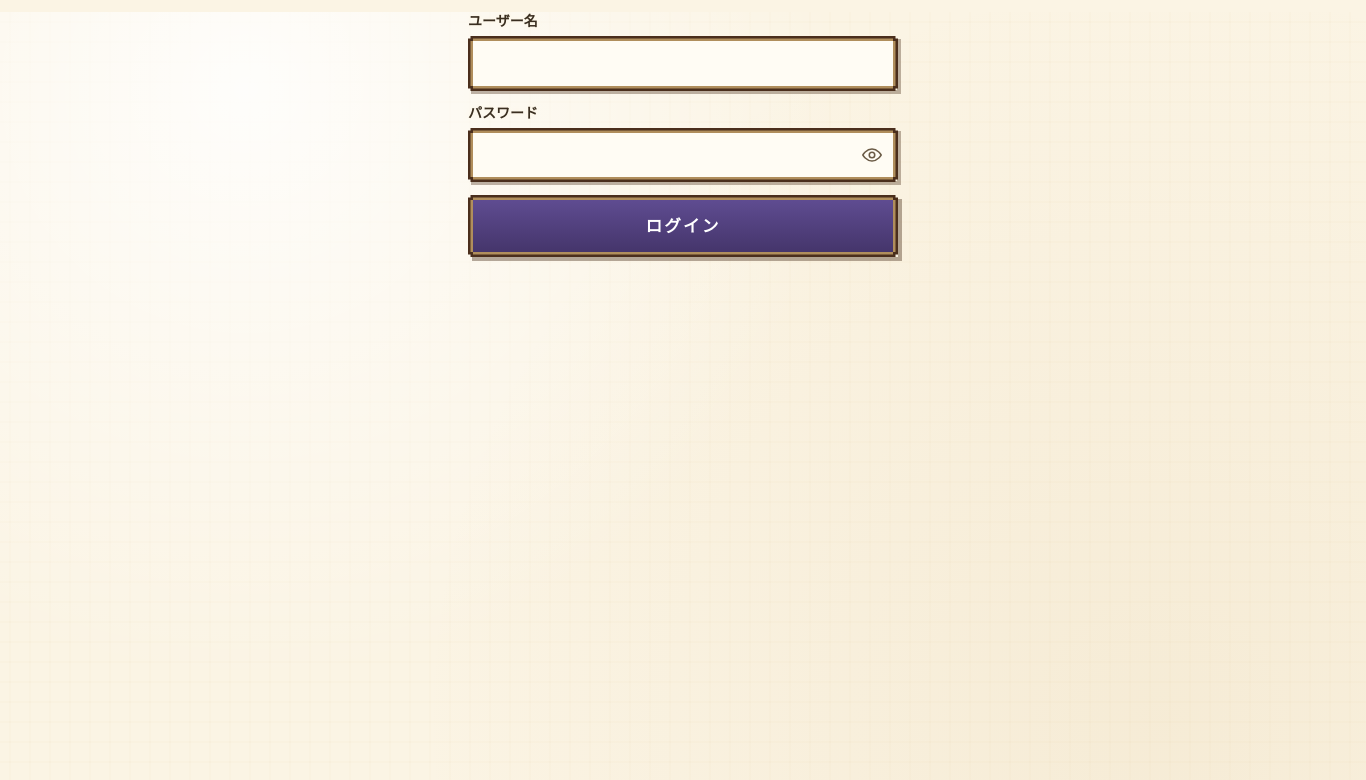
Scenario: LoginForm › 全角のパスワードは送信しない
Type "michishiru" into the field with id "login-username" at (683, 64), box [468,36,898,91]
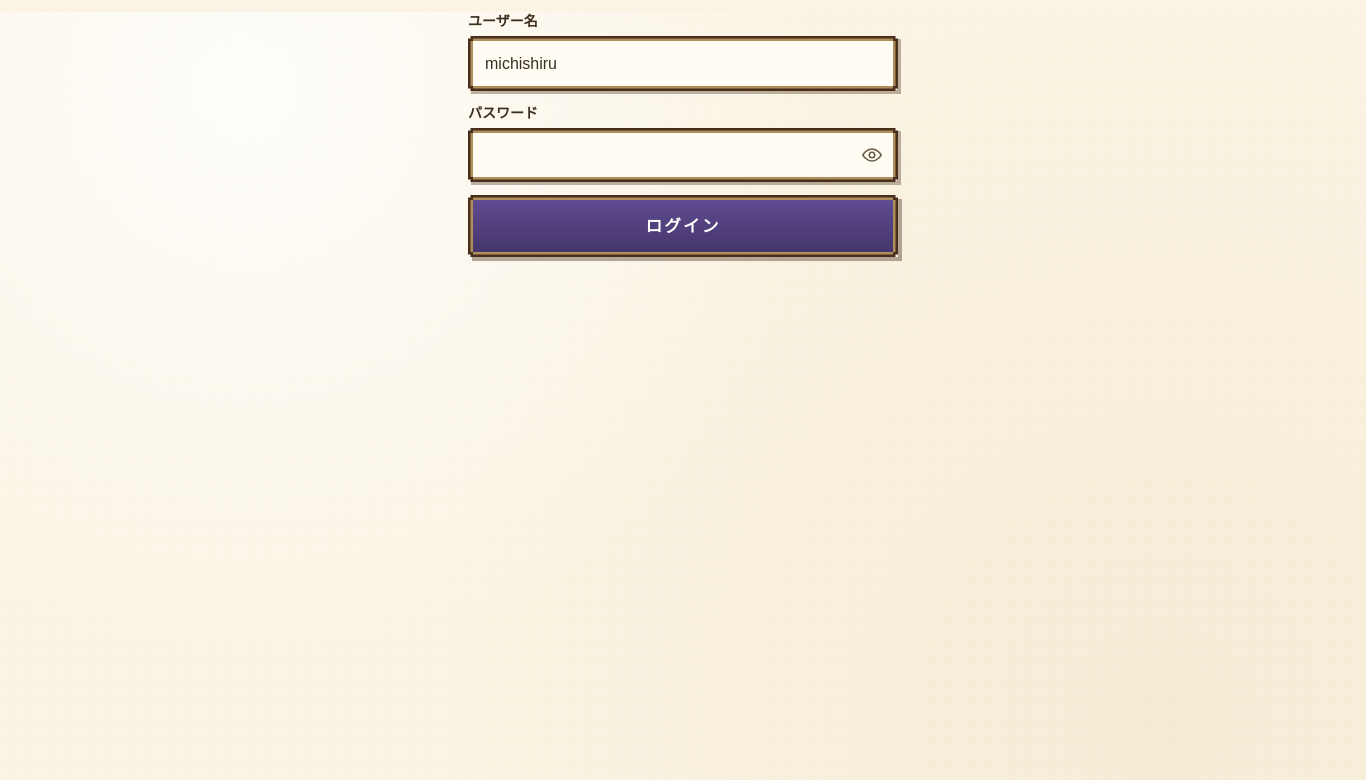
Type "パスワード12345" into the password field with id "login-password" at (683, 155), box [468,128,898,182]
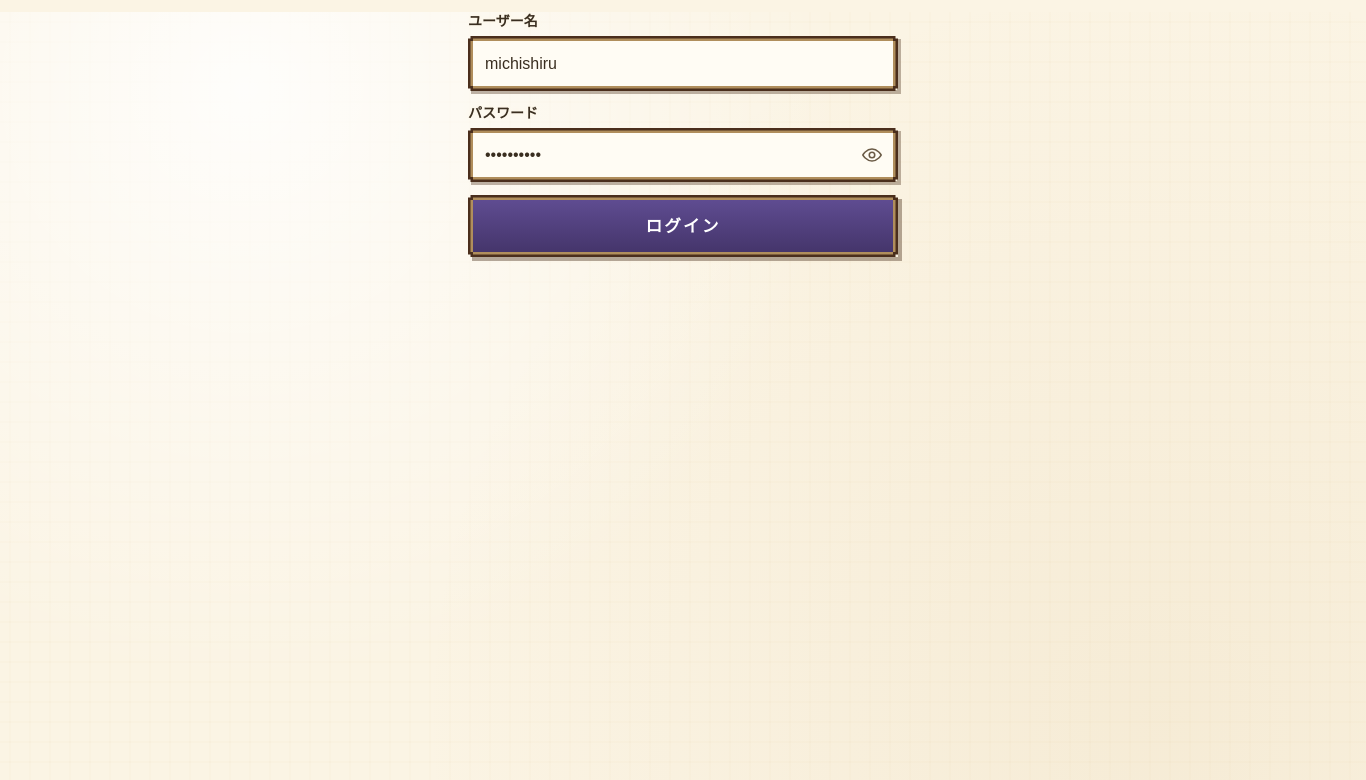
Submit the form, box [468,12,898,258]
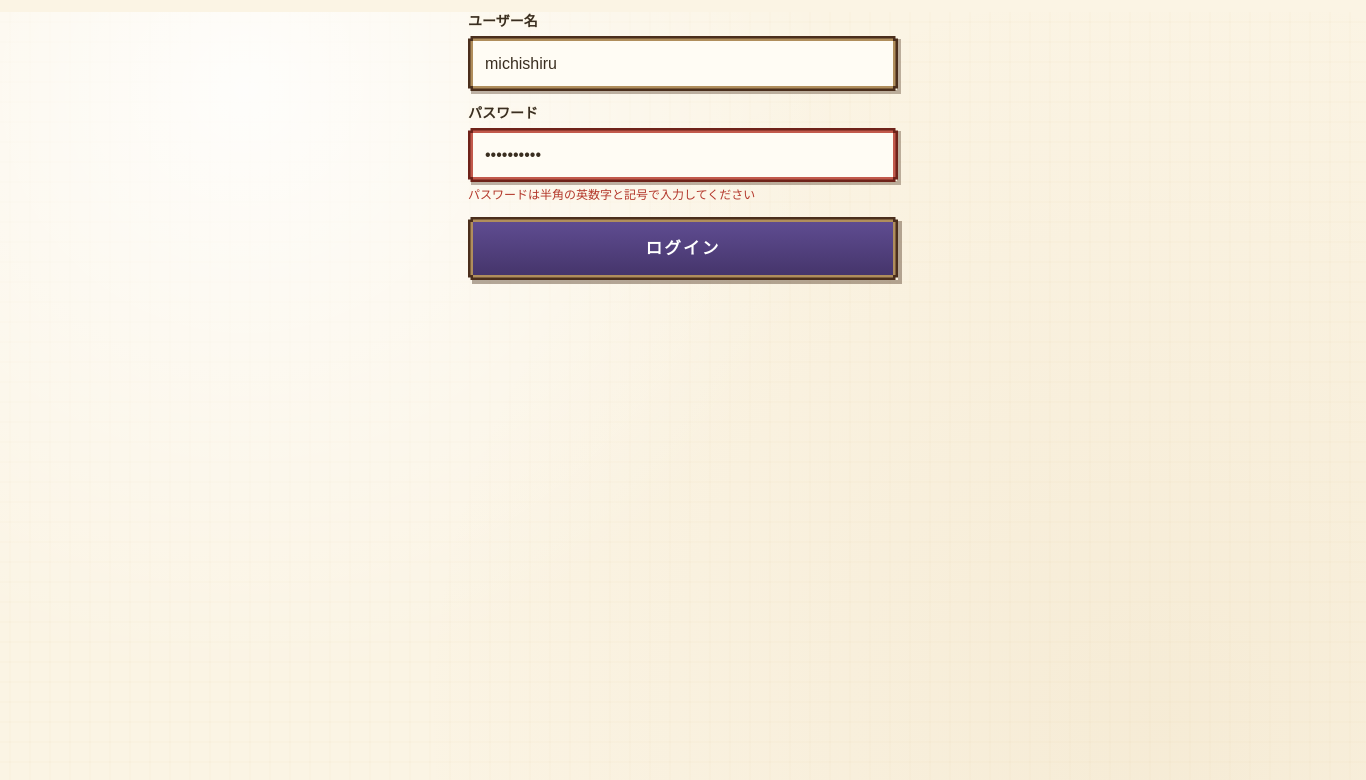
Result: the text with id "login-password-error" reads "パスワードは半角の英数字と記号で入力してください" at [468,188,755,202]
